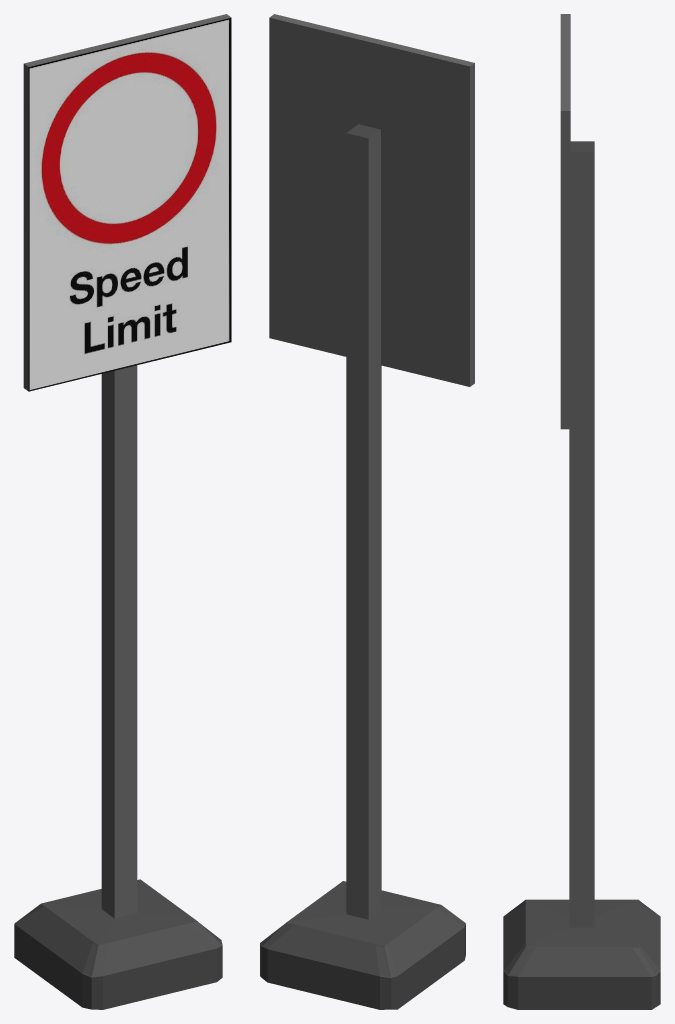
The model's file is Speed_Limit_Sign3.fbx.
3 renders of one model, left to right at view 1: azimuth 30°, elevation 25°; view 2: azimuth 150°, elevation 25°; view 3: azimuth 270°, elevation 25°, orthographic.
Parts seen in each view (by area): view 1: Cube.001, Cube; view 2: Cube.001, Cube; view 3: Cube, Cube.001.
Boxes of the visible parts, box(x1,y1,x2,y2) form: Cube.001: box(23, 14, 231, 391); Cube: box(14, 365, 222, 1009); Cube.001: box(269, 14, 474, 386); Cube: box(260, 124, 465, 1009); Cube: box(503, 141, 660, 1009); Cube.001: box(560, 14, 570, 429).
Size of the model in its own units: 292 by 1282 by 200.
3 materials, 1 textured.
